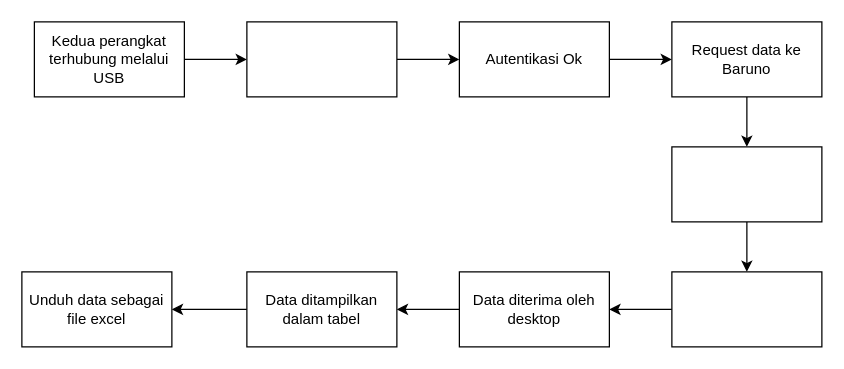
The diagram is 844 pixels wide and 369 high, and some of its shapes have lost their labels. The centre of each missing label's shape, as x and y in pixels:
"Baruno mengirim data ke Desktop" goes at [746,309].
"Konfirmasi Baruno" goes at [746,184].
"Pillih 'Unduh Data' di Baruno" goes at [321,59].
